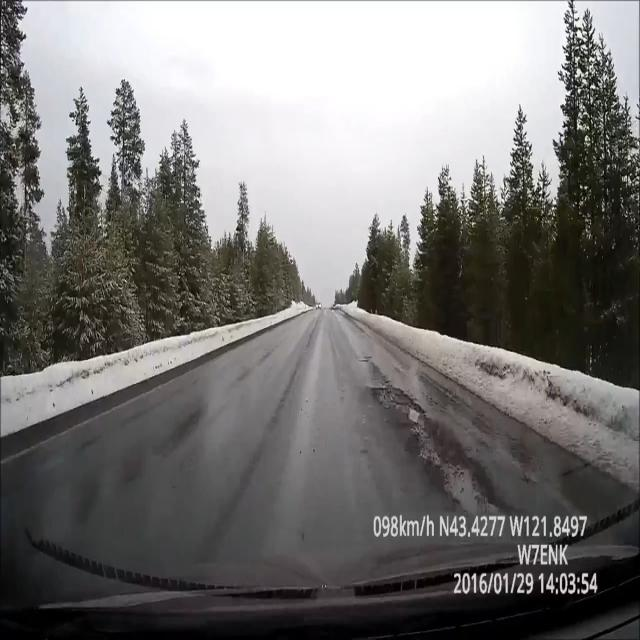Pothole: (365, 372, 495, 518)
